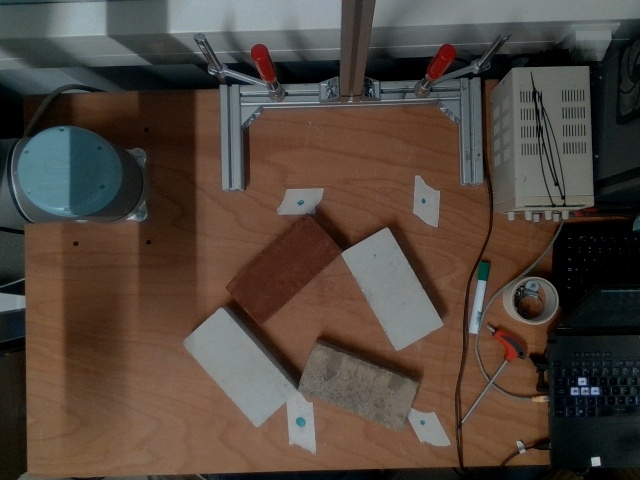brick: (180, 307, 297, 429), (223, 212, 345, 328), (338, 226, 443, 353), (295, 341, 423, 436)
